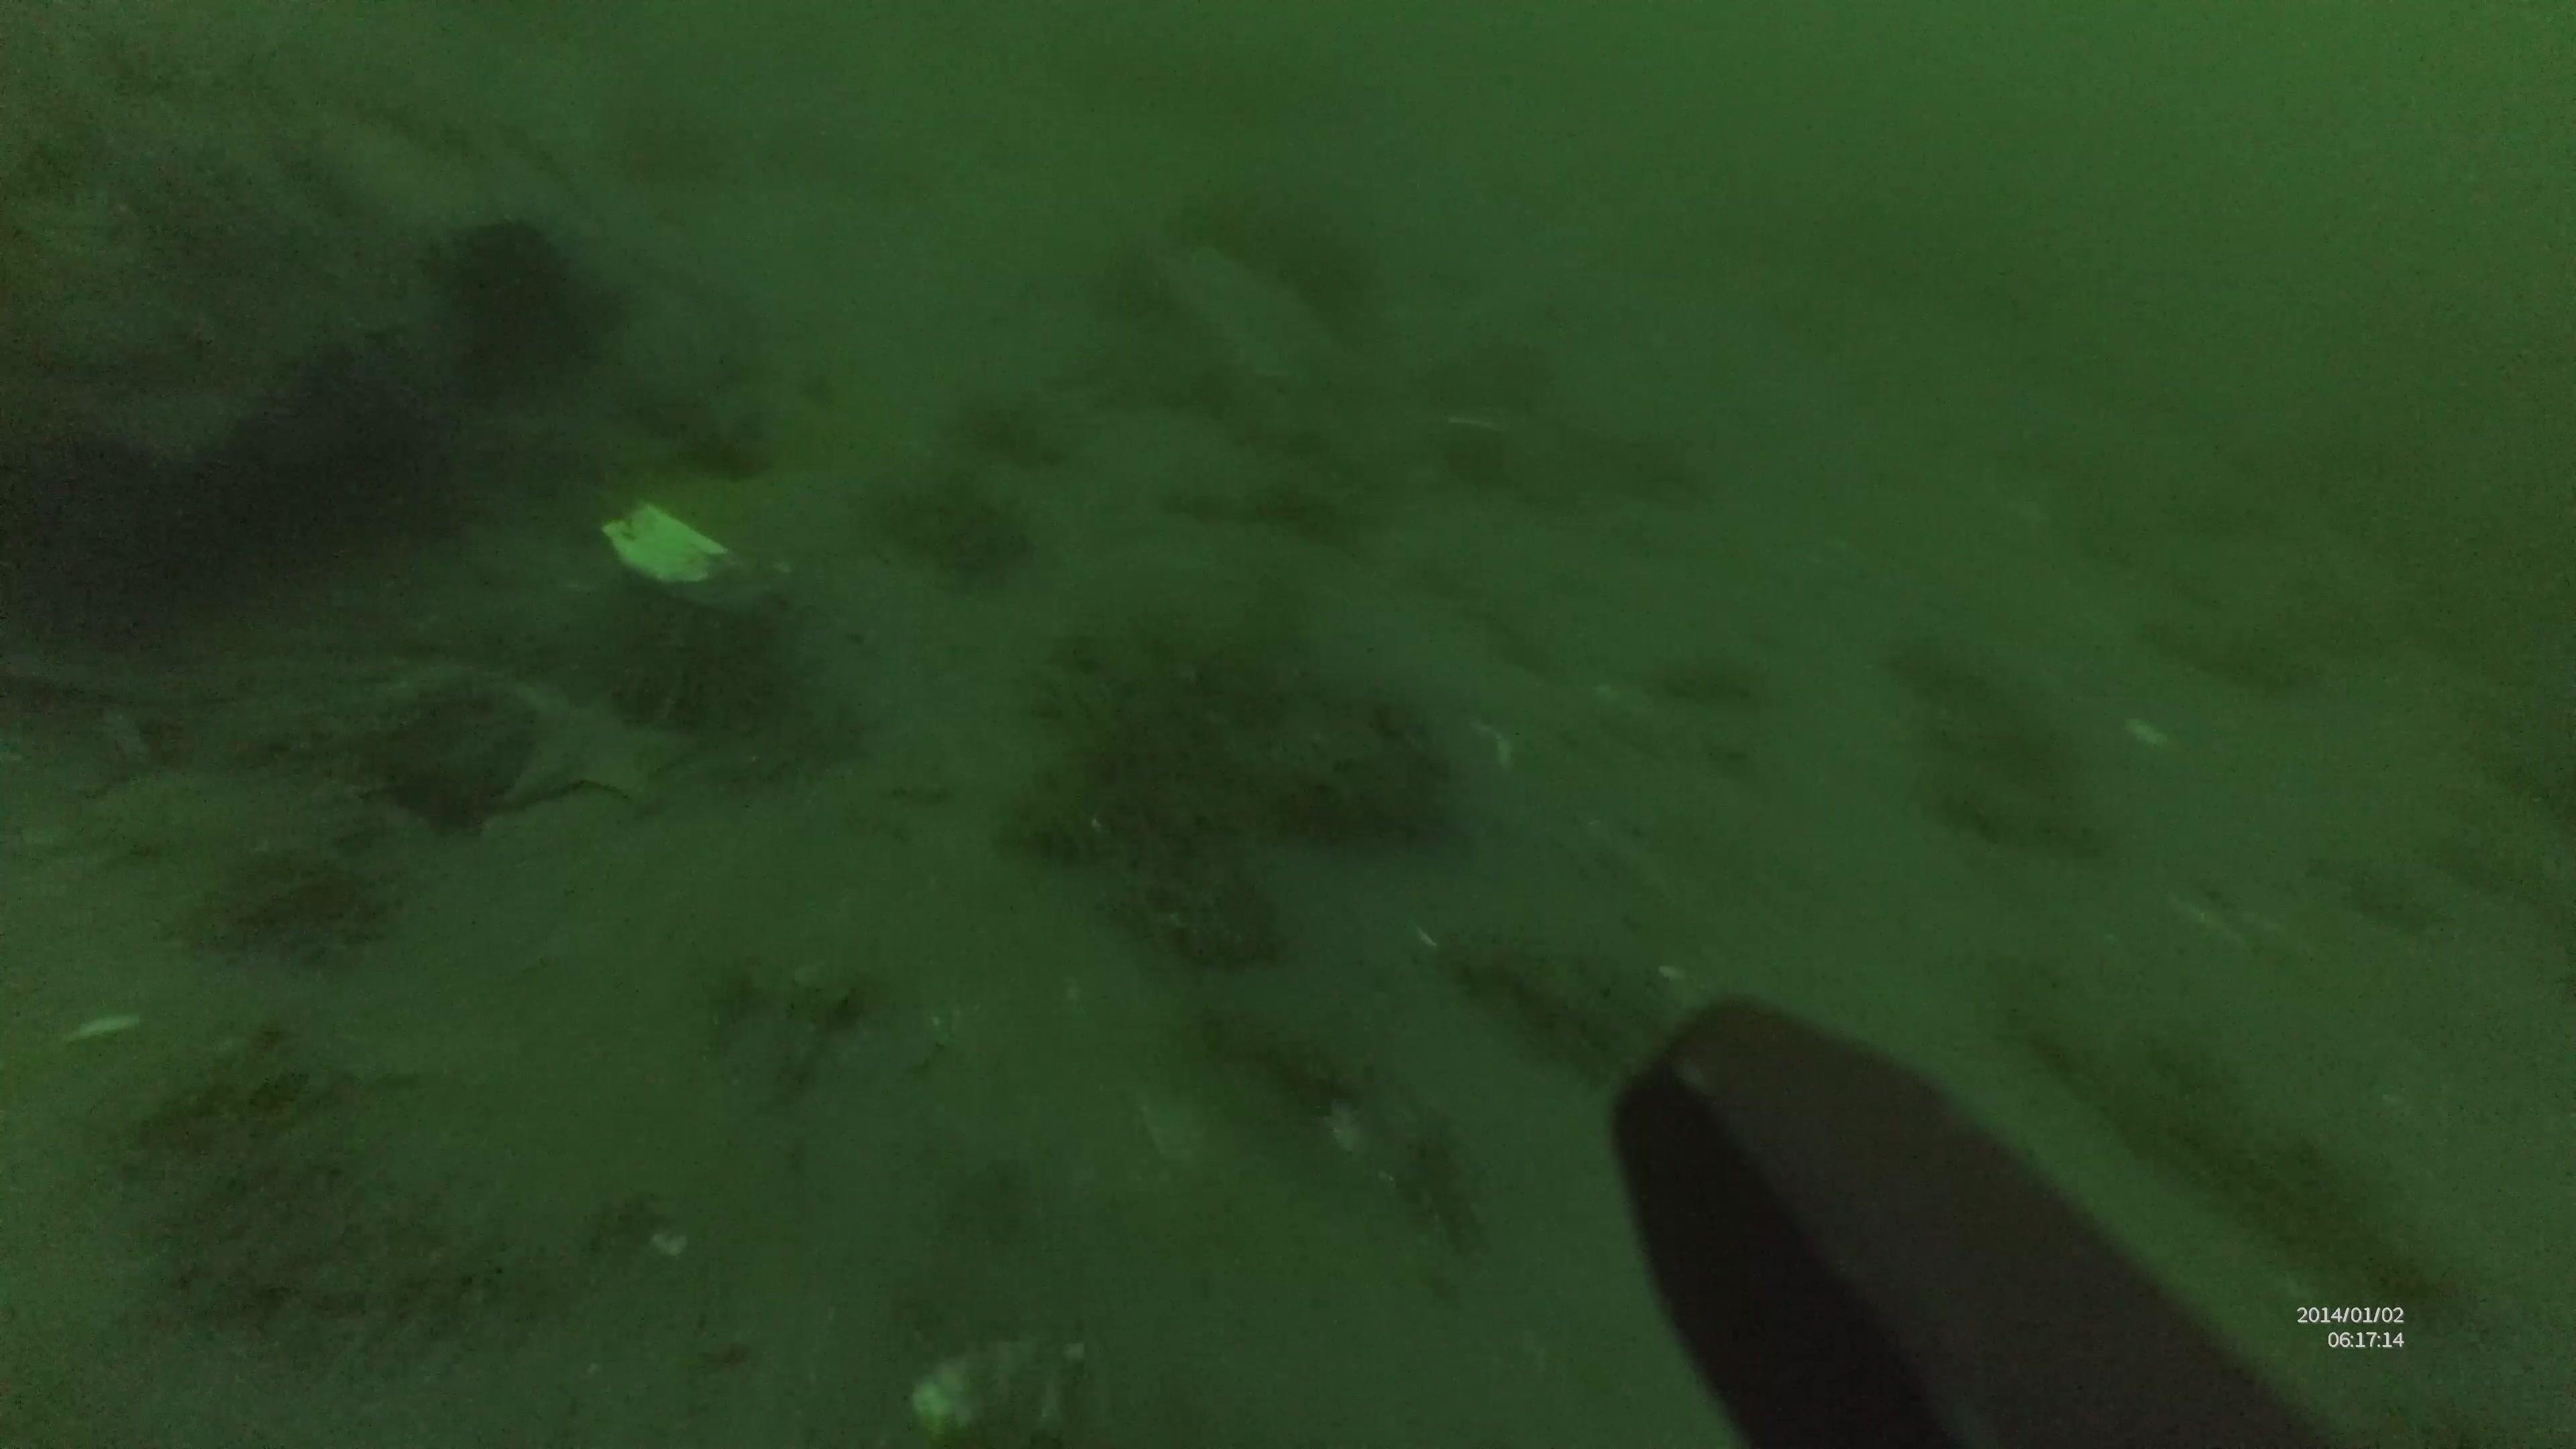echinus: (446, 218, 570, 320)
scallop: (587, 499, 732, 591)
starfish: (508, 672, 690, 837)
